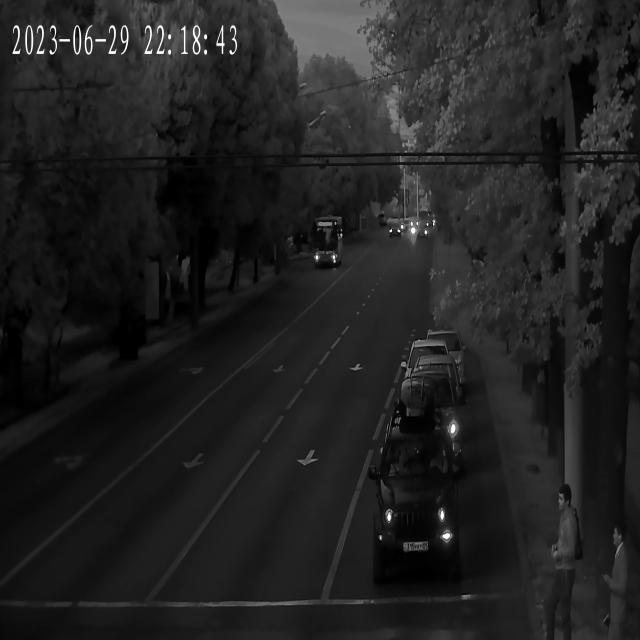Bus: (312, 217, 345, 277)
Car: (368, 392, 456, 574), (400, 369, 464, 479), (405, 336, 457, 411), (424, 320, 471, 394), (411, 219, 430, 237), (388, 218, 402, 240)
